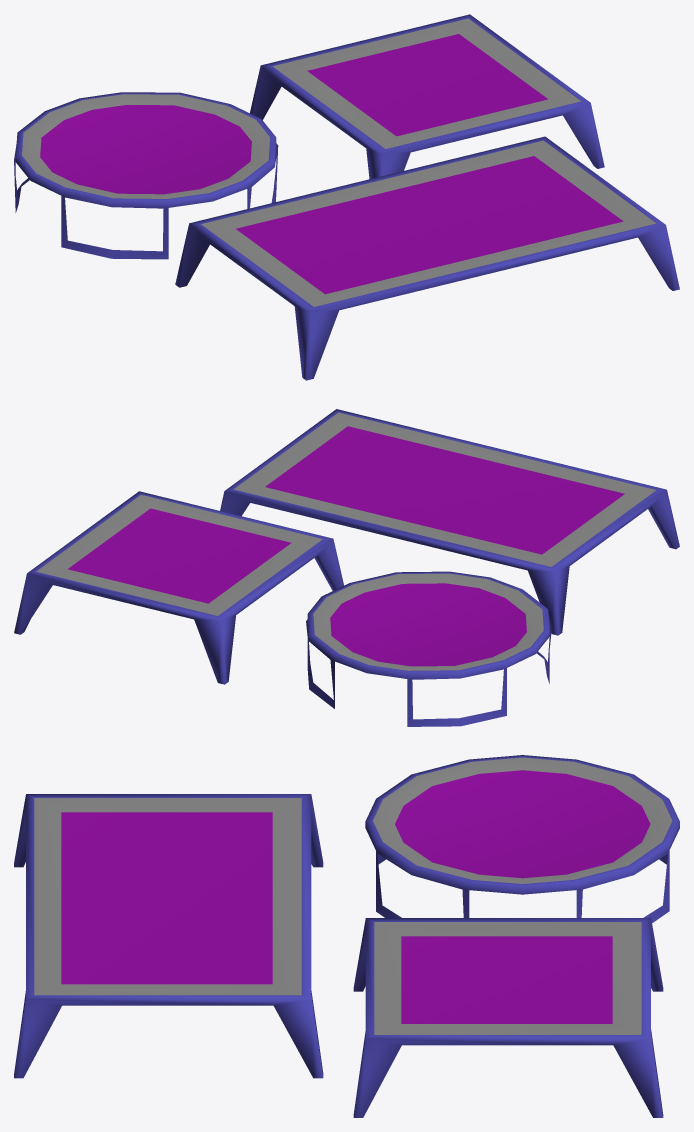
File: trampoline.glb
3 views of the same model, one above another, from view 1: azimuth 30°, elevation 25°; view 2: azimuth 150°, elevation 25°; view 3: azimuth 270°, elevation 25° (orthographic). The views are drawn at different scales.
Visible parts, largest first — view 1: Cube.000, Cube.002, Cylinder.002; view 2: Cube.000, Cube.002, Cylinder.002; view 3: Cube.000, Cube.002, Cylinder.002.
Boxes of the visible parts, left/top/right/bottom form: Cube.000: left=175, top=136, right=679, bottom=380; Cube.002: left=250, top=14, right=604, bottom=179; Cylinder.002: left=14, top=92, right=278, bottom=259; Cube.000: left=220, top=409, right=679, bottom=635; Cube.002: left=14, top=491, right=343, bottom=684; Cylinder.002: left=306, top=571, right=551, bottom=726; Cube.000: left=14, top=794, right=323, bottom=1078; Cube.002: left=353, top=918, right=663, bottom=1117; Cylinder.002: left=365, top=755, right=679, bottom=923.
Bounding box in the file's own units: 17.16 × 2.06 × 16.69.
